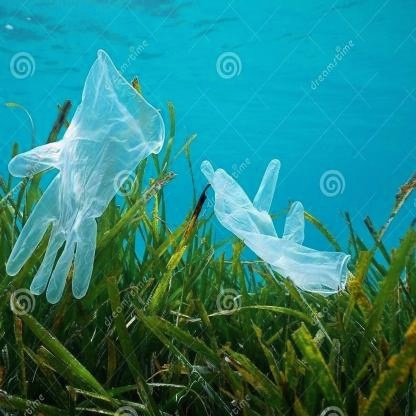glove: (3, 45, 166, 307), (193, 148, 351, 304)
